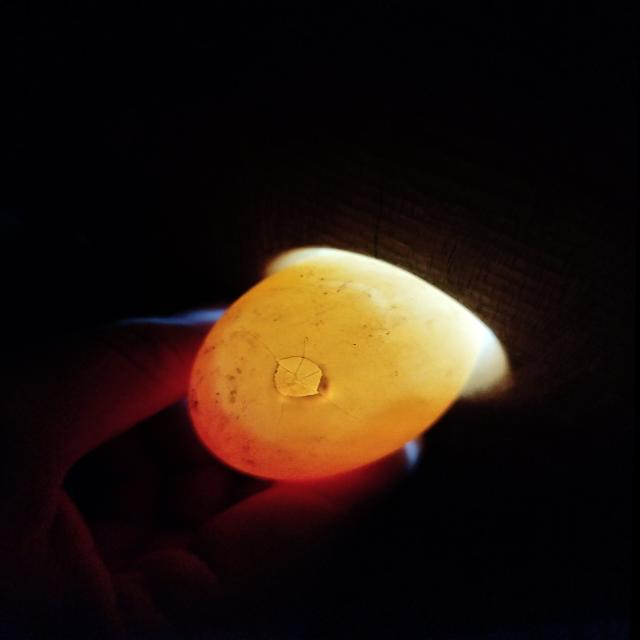Gema Quebrada: (187, 305, 450, 480)
Rachadura: (275, 356, 323, 397)
